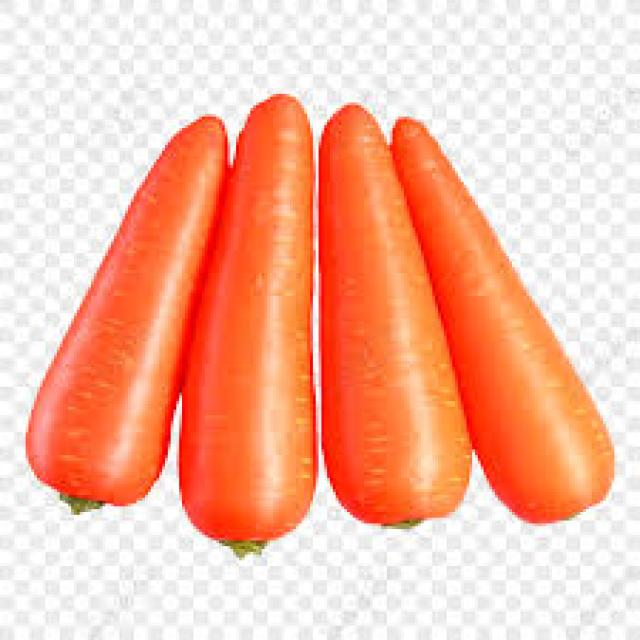Carrot: (322, 103, 464, 528)
